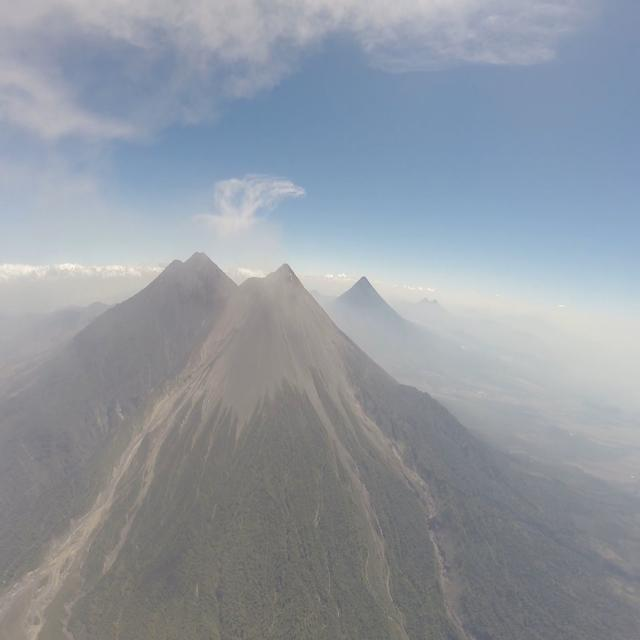Summit: (264, 255, 310, 292)
